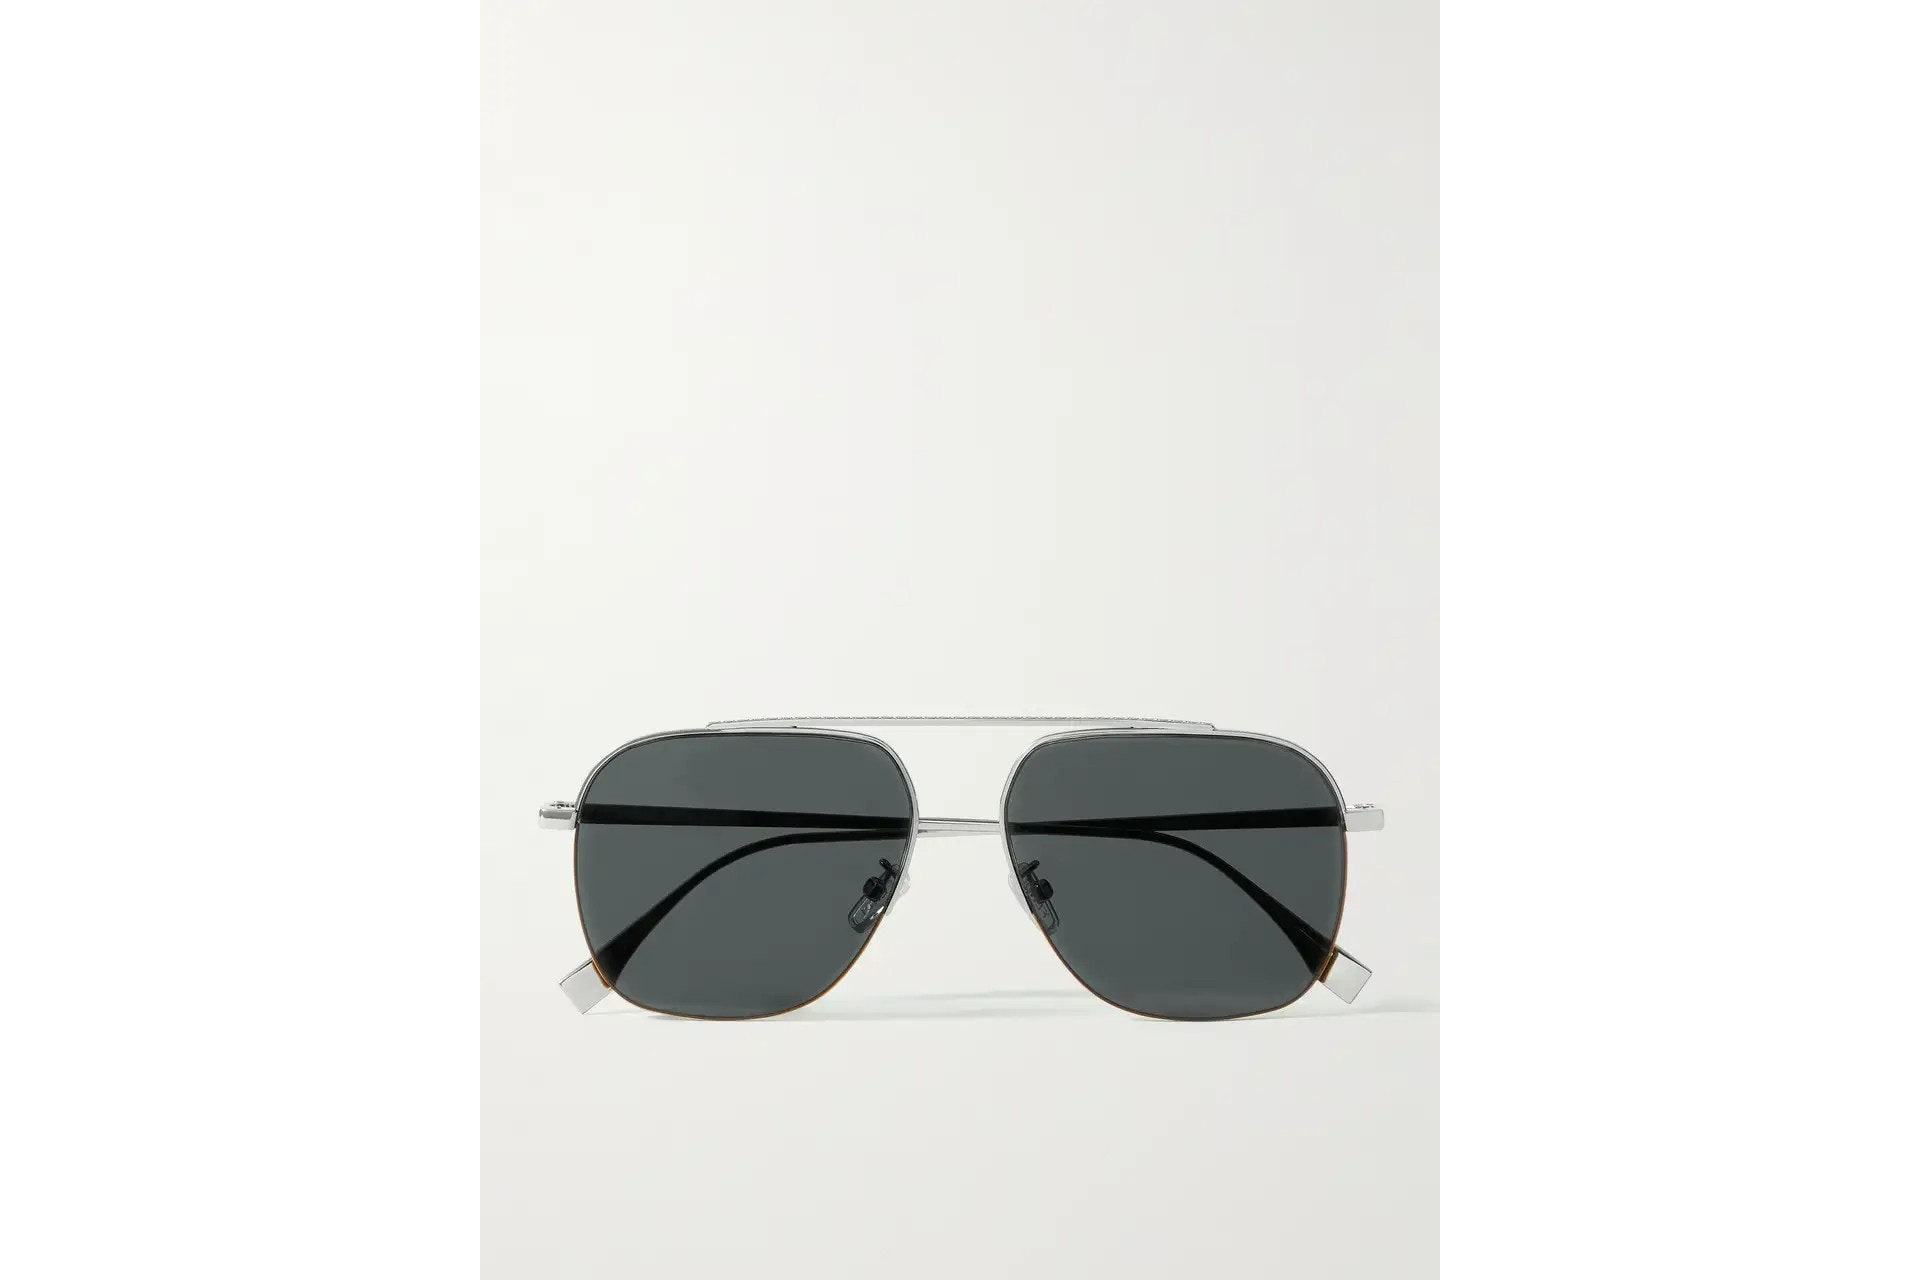lente: (529, 706, 1414, 1036)
